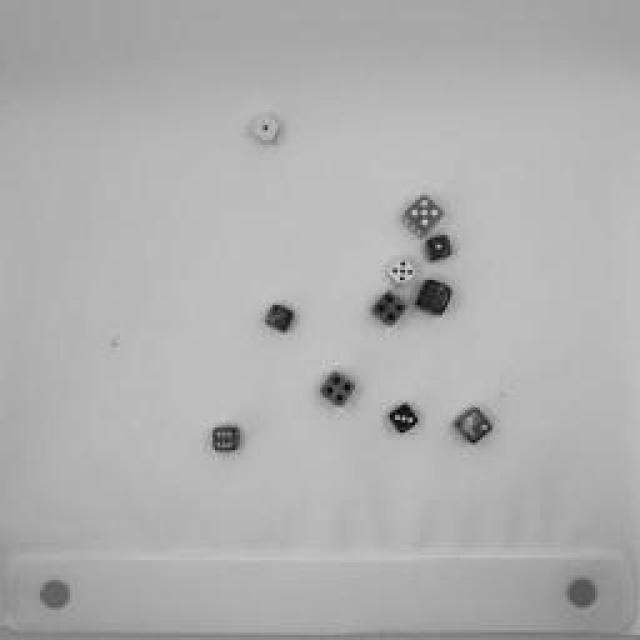dice_1: (424, 233, 454, 265), (255, 111, 280, 149)
dice_2: (453, 408, 495, 448), (259, 301, 296, 339)
dice_3: (388, 401, 418, 439)
dice_4: (370, 291, 410, 331), (414, 280, 454, 320), (317, 370, 355, 410)
dice_5: (401, 194, 444, 236), (385, 256, 415, 289)
dice_6: (206, 426, 246, 456)
